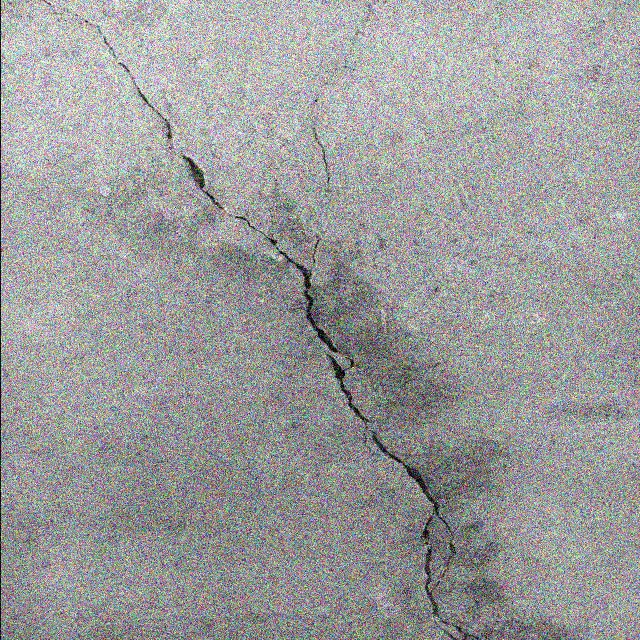SurfaceCrack: (3, 1, 553, 640)
